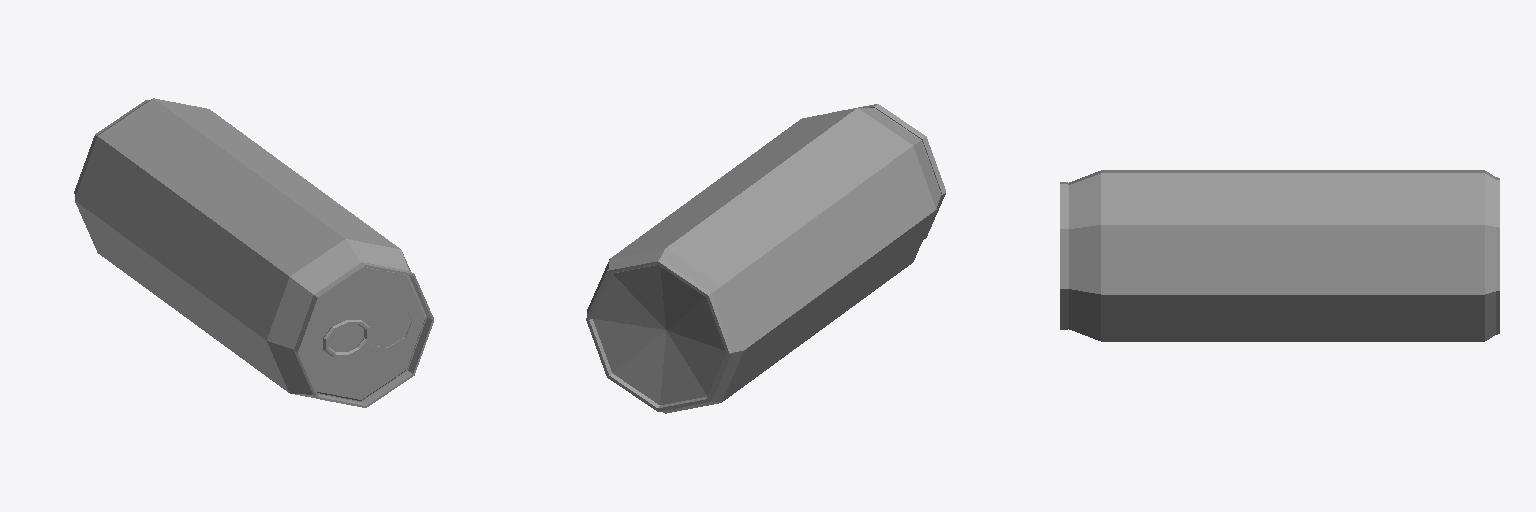
Rendered from coke.obj.
3 views of the same model, side by side, from view 1: azimuth 30°, elevation 25°; view 2: azimuth 150°, elevation 25°; view 3: azimuth 270°, elevation 25° (orthographic).
Visible parts, largest first — view 1: LPCoke_Cube.000; view 2: LPCoke_Cube.000; view 3: LPCoke_Cube.000.
Part boxes in pixels (left/top/right/bottom): LPCoke_Cube.000: left=74, top=98, right=433, bottom=407; LPCoke_Cube.000: left=586, top=104, right=945, bottom=413; LPCoke_Cube.000: left=1060, top=170, right=1499, bottom=341.
Size of the model in its own units: 0.0599 by 0.0599 by 0.1447.